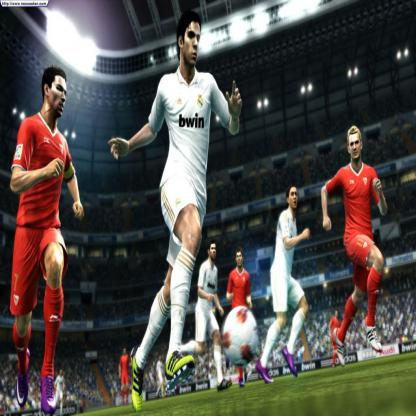face: (183, 22, 201, 66), (50, 76, 68, 118), (350, 134, 362, 160), (290, 187, 298, 209), (211, 245, 217, 261), (237, 252, 243, 267)
